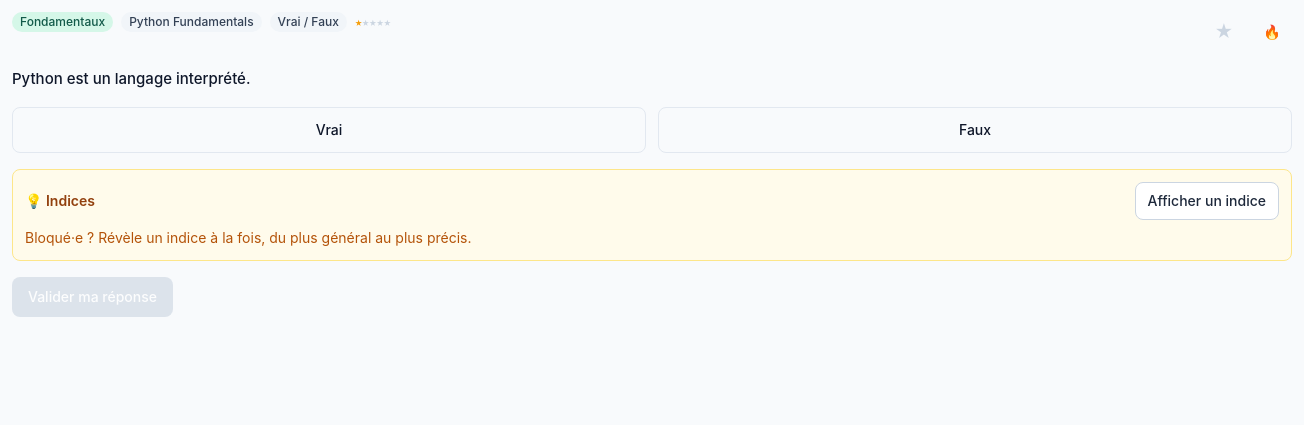
Test: QuestionPlayer — true/false flow › submits a correct answer, reports it, and reveals the explanation
The image size is (1304, 425).
Click the button "Vrai": coordinates (329, 130) x1=12 y1=106 x2=646 y2=152
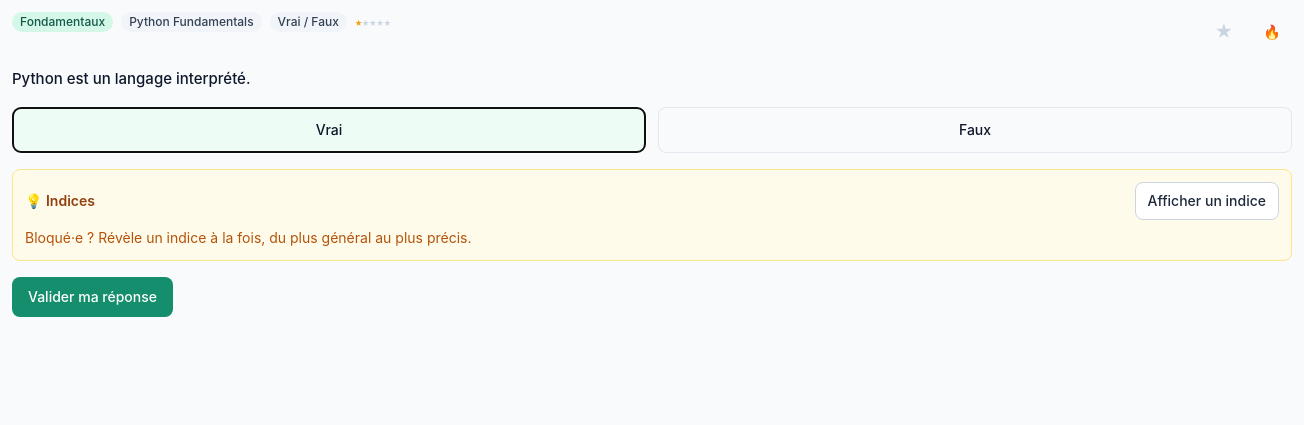
Now the button "Valider ma réponse" is enabled
Click the button "Valider ma réponse": coordinates (92, 296) x1=12 y1=276 x2=173 y2=316
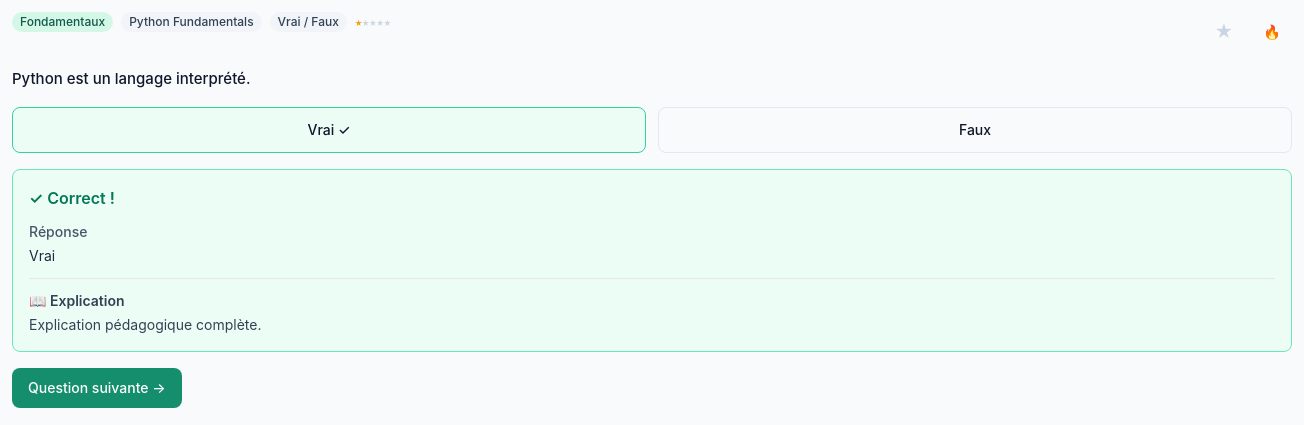
Now the text "✓ Correct !" is shown, box x1=29 y1=186 x2=115 y2=210
Now the text "Explication pédagogique complète." is shown, box x1=29 y1=316 x2=262 y2=332
